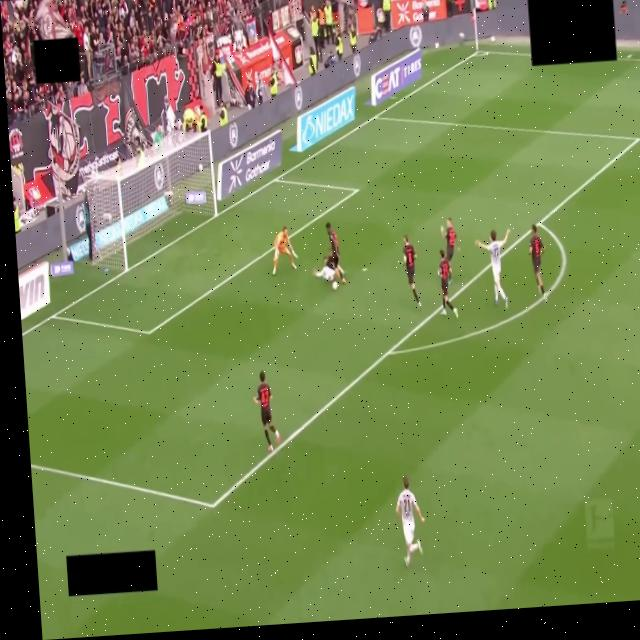ball: (332, 281, 338, 290)
player: (475, 230, 510, 308), (396, 476, 424, 566), (254, 371, 280, 451), (529, 225, 547, 302), (438, 250, 458, 318), (403, 236, 421, 308), (325, 222, 345, 283), (272, 227, 296, 275), (441, 218, 457, 262), (313, 257, 339, 282)
